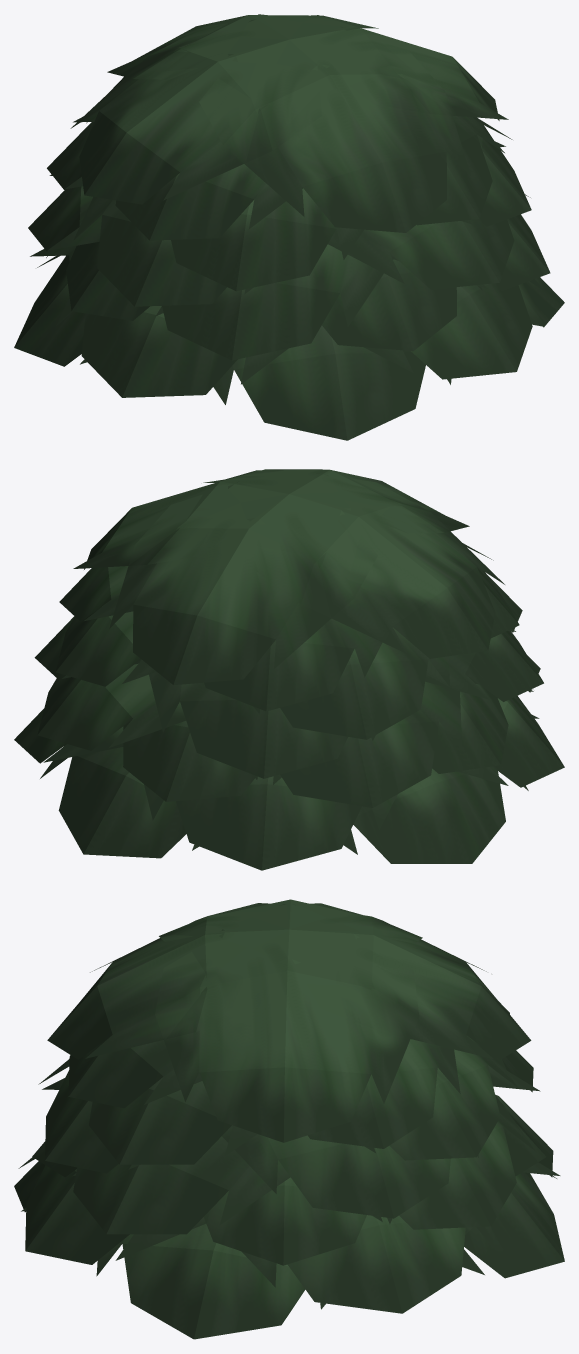
Rendered from BushFinal.fbx.
3 renders of one model, top to bottom at view 1: azimuth 30°, elevation 25°; view 2: azimuth 150°, elevation 25°; view 3: azimuth 270°, elevation 25°, orthographic. The views are drawn at different scales.
Visible parts, largest first — view 1: Bush; view 2: Bush; view 3: Bush.
Part boxes in pixels (bbox=[...]): Bush: bbox=[14, 14, 564, 440]; Bush: bbox=[14, 469, 564, 870]; Bush: bbox=[14, 899, 564, 1339].
Size of the model in its own units: 144 by 85.64 by 145.
